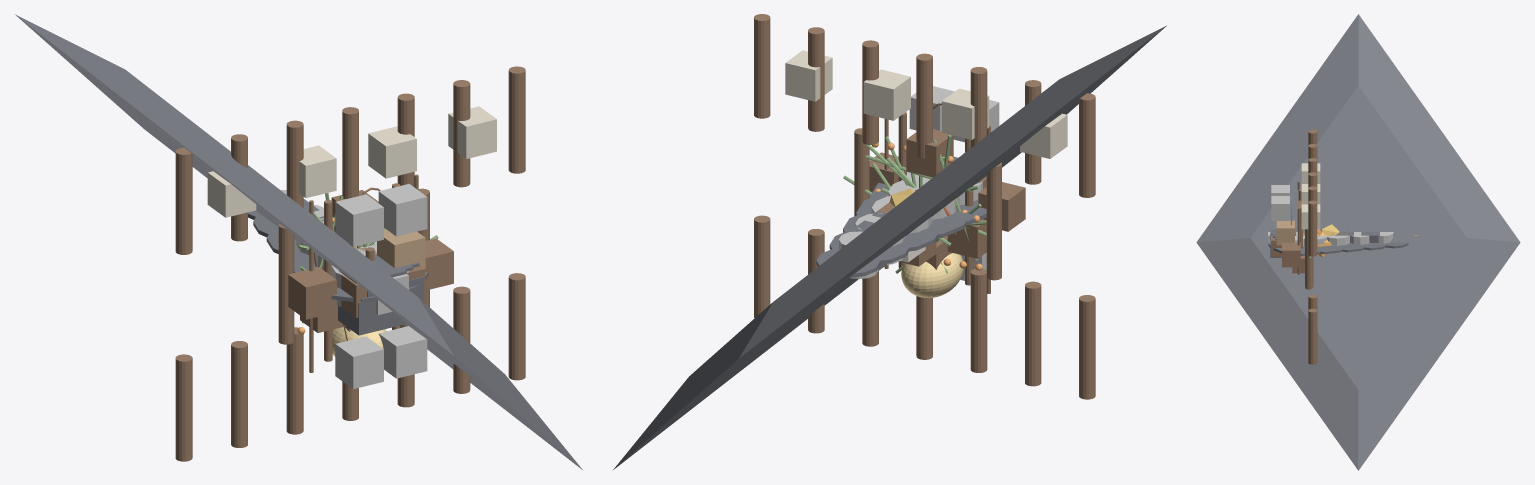
File: temple-library.glb
The picture shows the model from 3 angles, left to right: view 1: azimuth 30°, elevation 25°; view 2: azimuth 150°, elevation 25°; view 3: azimuth 270°, elevation 25°; orthographic projection. The views are drawn at different scales.
Parts seen in each view (by area): view 1: HallRoof, BridgePier-0.7_-2.2, BridgePier-0.7_2.2, RackPost-1, HallLattice2, BridgePier0.7_2.2, BridgePier0.7_-2.2, HallColumn-3.2_0, HallColumn-3.2_6, HallColumn3.2_6, HallLattice3, HallColumn3.2_0 (+16 smaller); view 2: HallRoof, HallLattice2, HallBuddha, HallColumn-3.2_2, GateColumn-1, HallColumn-3.2_1, HallColumn-3.2_0, HallColumn3.2_6, HallLattice3, HallColumn3.2_0, HallColumn3.2_3, HallColumn-3.2_6 (+18 smaller); view 3: HallRoof, HallColumn3.2_6, HallColumn-3.2_6, RackPost1, BridgePier0.7_2.2, WorkshopTable, GateColumn1.
Part boxes in pixels (x1=…): HallRoof: x1=15, y1=14, x2=582, y2=469; BridgePier-0.7_-2.2: x1=335, y1=336, x2=383, y2=389; BridgePier-0.7_2.2: x1=335, y1=194, x2=383, y2=246; RackPost-1: x1=288, y1=267, x2=336, y2=319; HallLattice2: x1=368, y1=126, x2=416, y2=178; BridgePier0.7_2.2: x1=378, y1=184, x2=427, y2=236; BridgePier0.7_-2.2: x1=378, y1=326, x2=427, y2=378; HallColumn-3.2_0: x1=175, y1=354, x2=192, y2=461; HallColumn-3.2_6: x1=508, y1=273, x2=525, y2=380; HallColumn3.2_6: x1=508, y1=66, x2=525, y2=173; HallLattice3: x1=448, y1=106, x2=496, y2=158; HallColumn3.2_0: x1=175, y1=147, x2=192, y2=254; HallRoof: x1=613, y1=25, x2=1166, y2=469; HallLattice2: x1=863, y1=69, x2=910, y2=120; HallBuddha: x1=901, y1=253, x2=963, y2=298; HallColumn-3.2_2: x1=970, y1=269, x2=987, y2=372; GateColumn-1: x1=986, y1=162, x2=1001, y2=280; HallColumn-3.2_1: x1=1025, y1=281, x2=1041, y2=386; HallColumn-3.2_0: x1=1079, y1=295, x2=1095, y2=399; HallColumn3.2_6: x1=754, y1=14, x2=770, y2=118; HallLattice3: x1=785, y1=50, x2=832, y2=101; HallColumn3.2_0: x1=1079, y1=93, x2=1095, y2=197; HallColumn3.2_3: x1=916, y1=53, x2=932, y2=158; HallColumn-3.2_6: x1=754, y1=215, x2=770, y2=317; HallRoof: x1=1196, y1=14, x2=1520, y2=470; HallColumn3.2_6: x1=1308, y1=200, x2=1317, y2=256; HallColumn-3.2_6: x1=1308, y1=308, x2=1317, y2=364; RackPost1: x1=1282, y1=242, x2=1300, y2=267; BridgePier0.7_2.2: x1=1271, y1=196, x2=1289, y2=220; WorkshopTable: x1=1276, y1=220, x2=1294, y2=245; GateColumn1: x1=1305, y1=229, x2=1313, y2=289.
Bounding box in the file's own units: 18.46 × 18.46 × 17.4.
